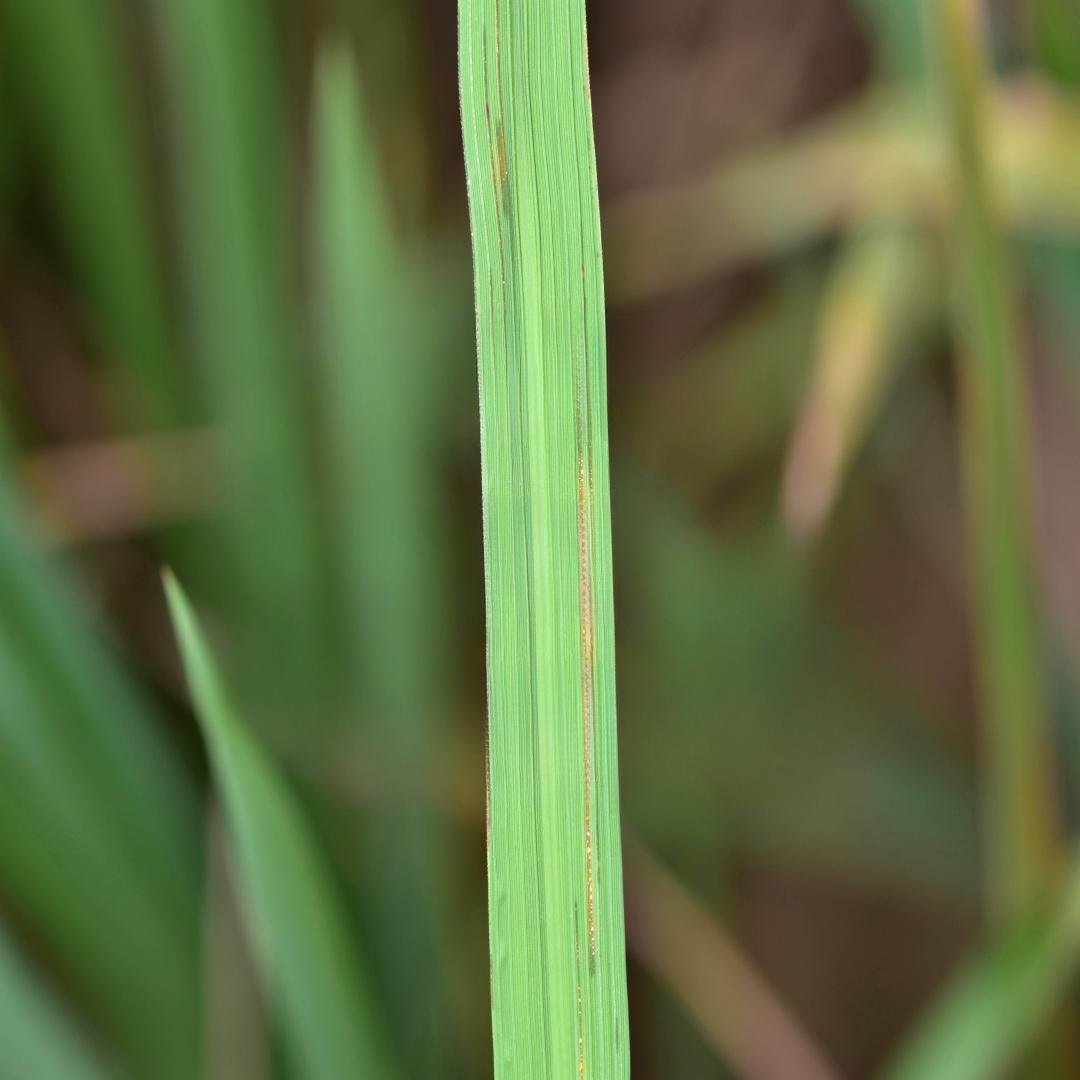BLS: (576, 351, 596, 989), (483, 25, 505, 346), (495, 0, 515, 309), (575, 901, 584, 1079), (489, 269, 492, 327)
LEAF: (459, 0, 629, 1079)
